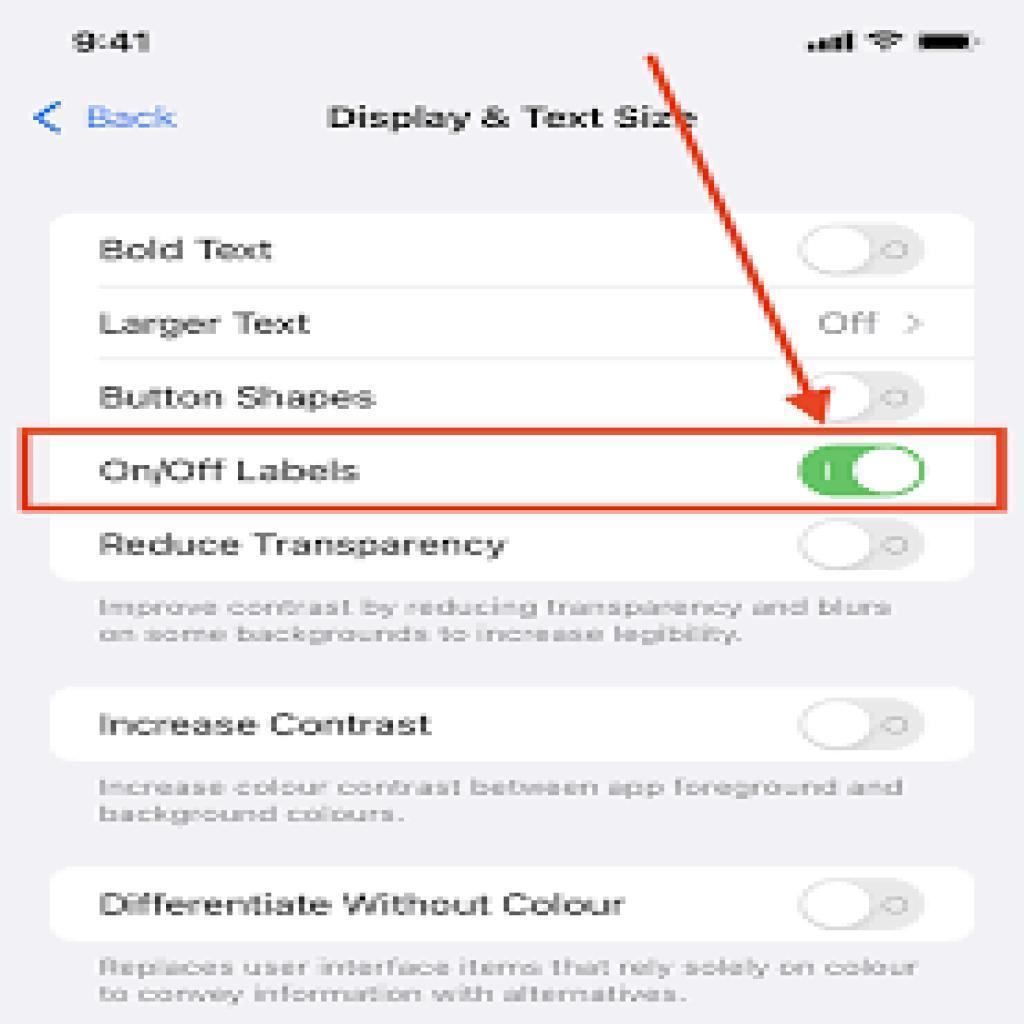switch: (795, 694, 927, 760), (795, 439, 924, 501), (795, 516, 930, 573), (802, 876, 929, 930), (798, 227, 927, 277)
